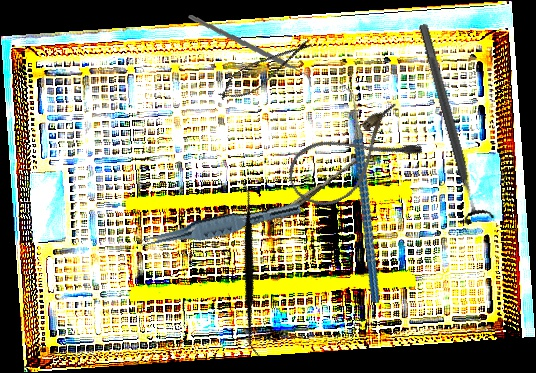Cannula: (278, 99, 427, 218)
Chopper: (292, 80, 426, 304), (187, 5, 313, 97)
Fixation Ring: (407, 20, 496, 226)
Micro Scissor: (212, 30, 318, 109)
Spatula Surgical: (171, 179, 330, 358)
Tissue Forceps: (137, 193, 303, 257), (266, 153, 363, 229)
